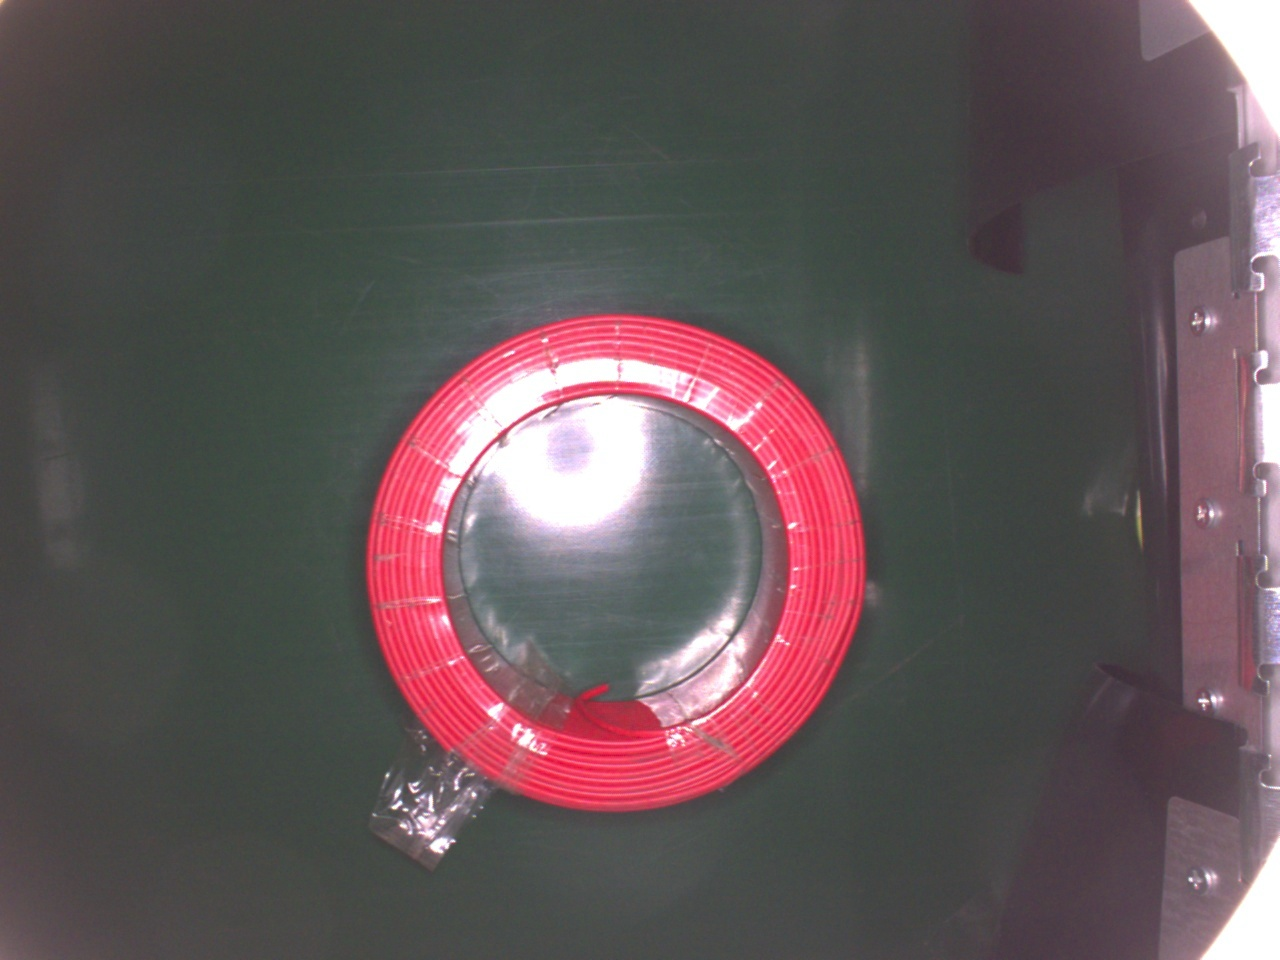red: (366, 311, 868, 817)
